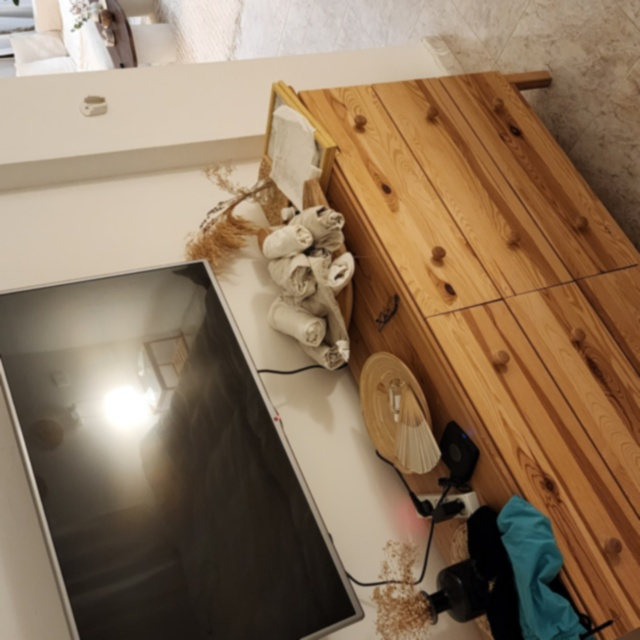glasses: (370, 291, 404, 334)
